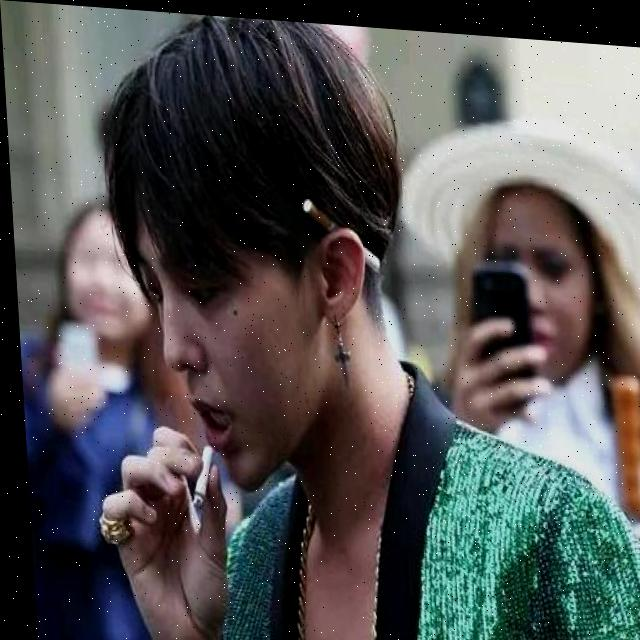cigarette: (185, 442, 214, 503)
